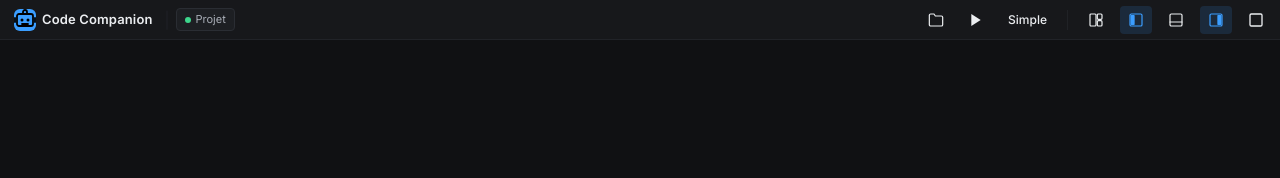
Test: customize menu item toggles its panel and closes the menu
Step 1. Click the button titled "Personnaliser la disposition" → (1096,20), box left=1080, top=6, right=1112, bottom=34
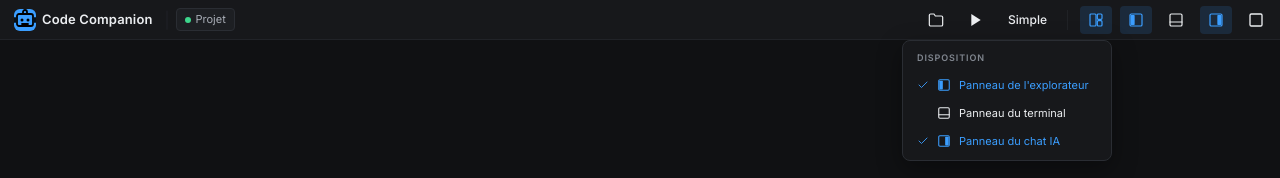
Step 2. Click the menu item "Panneau du terminal" → (1007,113), box left=909, top=100, right=1105, bottom=126
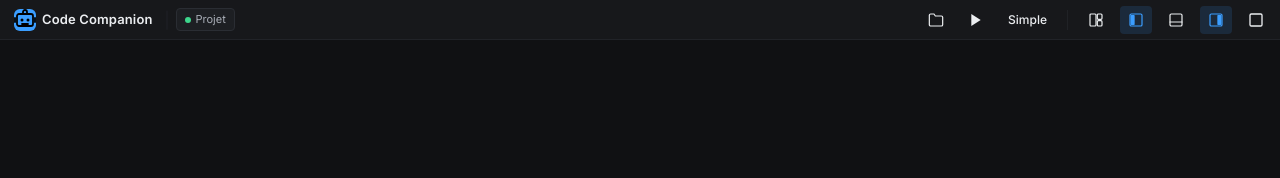
Result: the menu is gone
